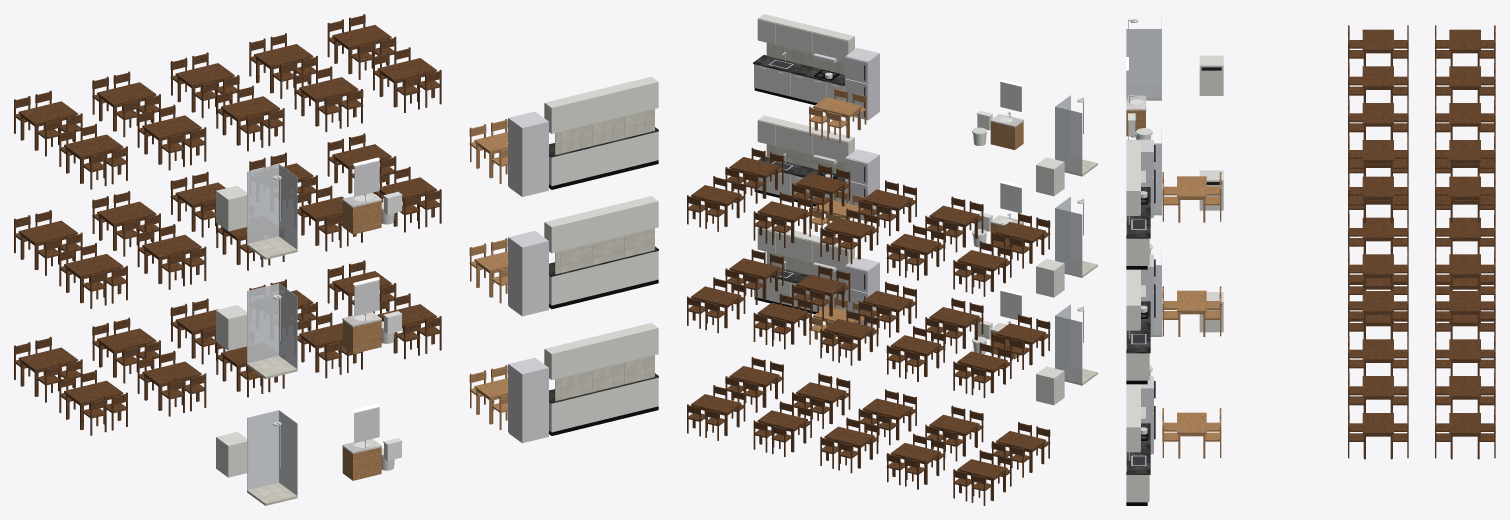
File: i_hk_dimsum_hall.gltf
3 views of the same model, side by side, from view 1: azimuth 30°, elevation 25°; view 2: azimuth 150°, elevation 25°; view 3: azimuth 270°, elevation 25° (orthographic). The views are drawn at different scales.
Parts seen in each view (by area): view 1: I_hk_dimsum_hall; view 2: I_hk_dimsum_hall; view 3: I_hk_dimsum_hall.
Part boxes in pixels (x1,y1,x2,y2): I_hk_dimsum_hall: (14, 14, 658, 505); I_hk_dimsum_hall: (687, 14, 1097, 505); I_hk_dimsum_hall: (1126, 14, 1495, 505).
Bounding box in the file's own units: 12.78 × 8.8 × 9.35.
13 materials, 5 textured.
